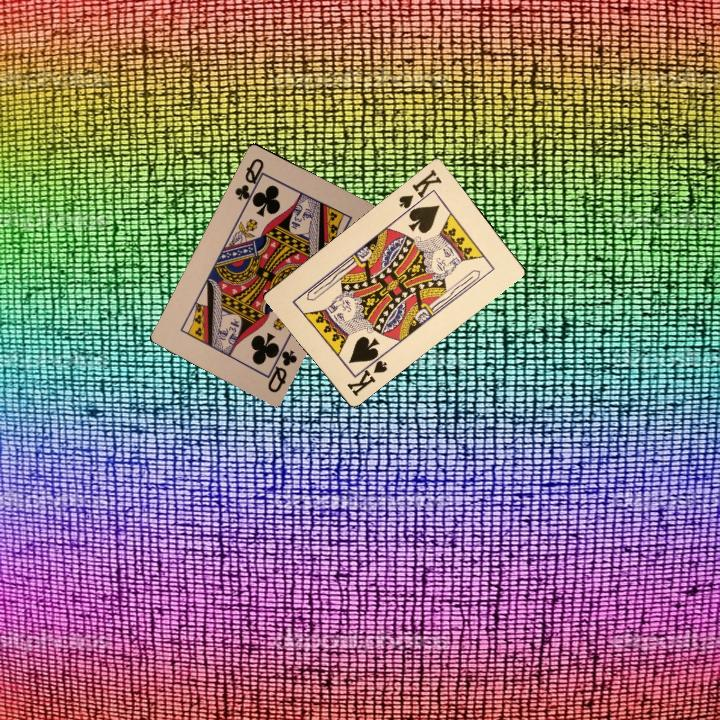Ks: (395, 165, 445, 214), (343, 350, 390, 399)
Qc: (261, 341, 300, 395), (231, 154, 267, 207)
